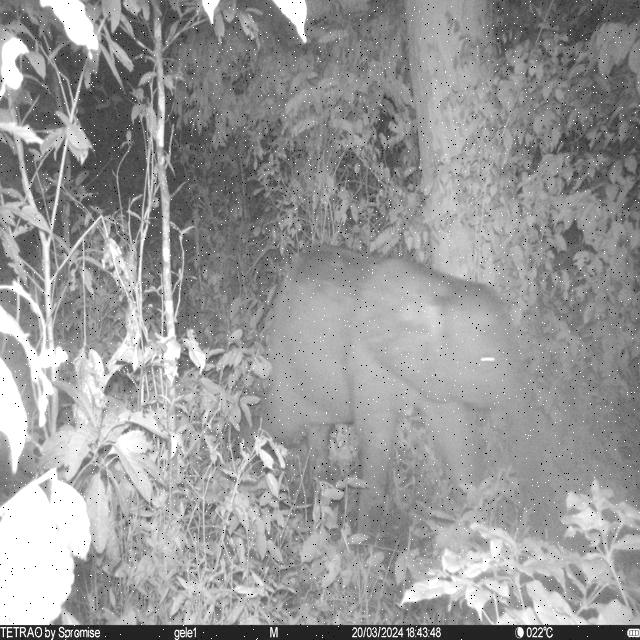calf: (264, 243, 546, 546)
ear: (354, 254, 461, 406)
